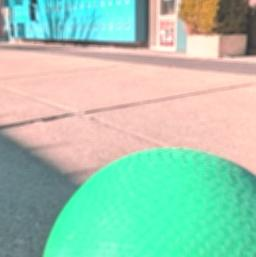algae: (38, 149, 256, 257)
